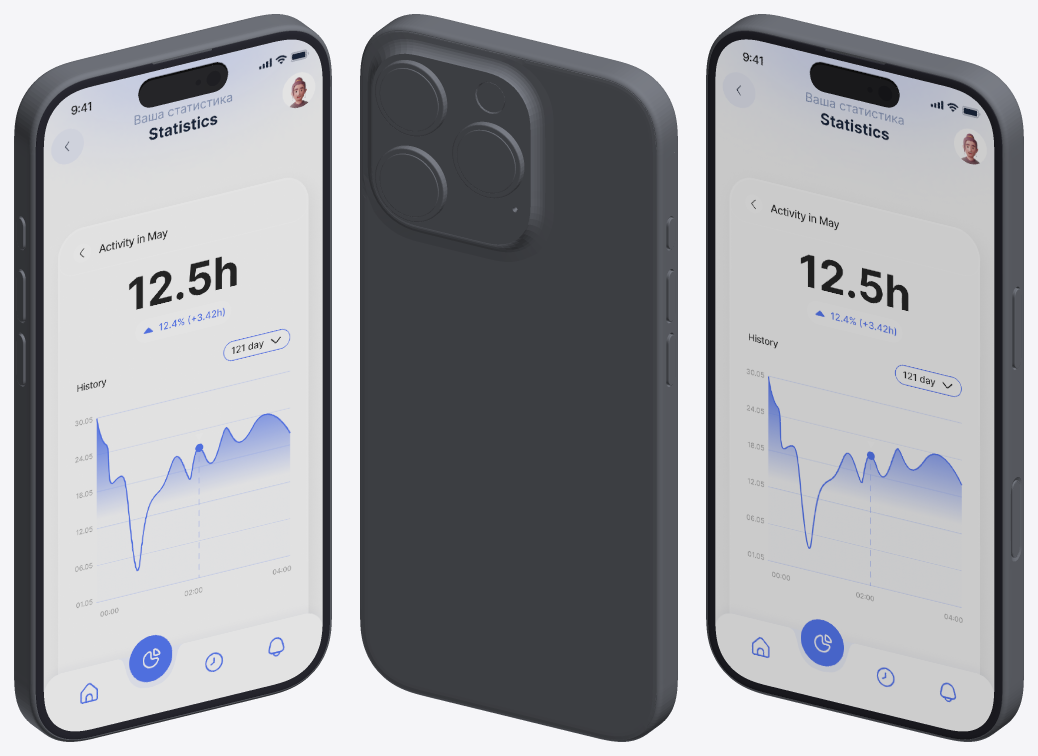
The model's file is iphone-statistics-v2.glb.
The picture shows the model from 3 angles, left to right: view 1: azimuth 30°, elevation 25°; view 2: azimuth 150°, elevation 25°; view 3: azimuth 330°, elevation 25°; orthographic projection.
Visible parts, largest first — view 1: display, edge-a, edge-display, frontal-camera-1; view 2: back, edge-a, back-camera, back-camera-lente-2-a, back-camera-lente-1-b, back-camera-lente-3-a, back-camera-lente-3-d, back-camera-lente-1-a, back-camera-lente-2-d, back-camera-flash-a; view 3: display, edge-a, edge-display, frontal-camera-1, button-4.
Boxes of the visible parts, x1,y1,x2,y2 form: display: (43,39,322,731); edge-a: (14,14,331,741); edge-display: (35,31,329,739); frontal-camera-1: (138,64,227,107); back: (362,31,656,739); edge-a: (360,14,677,741); back-camera: (372,53,530,244); back-camera-lente-2-a: (458,132,513,191); back-camera-lente-1-b: (381,70,436,129); back-camera-lente-3-a: (381,156,436,215); back-camera-lente-3-d: (375,145,447,222); back-camera-lente-1-a: (375,60,447,136); back-camera-lente-2-d: (452,121,524,198); back-camera-flash-a: (477,82,504,112); display: (715,39,994,731); edge-a: (706,14,1023,741); edge-display: (708,31,1002,739); frontal-camera-1: (810,64,899,107); button-4: (1012,288,1021,368).
Size of the model in its own units: 7.17 by 14.92 by 1.21.
5 materials, 1 textured.
